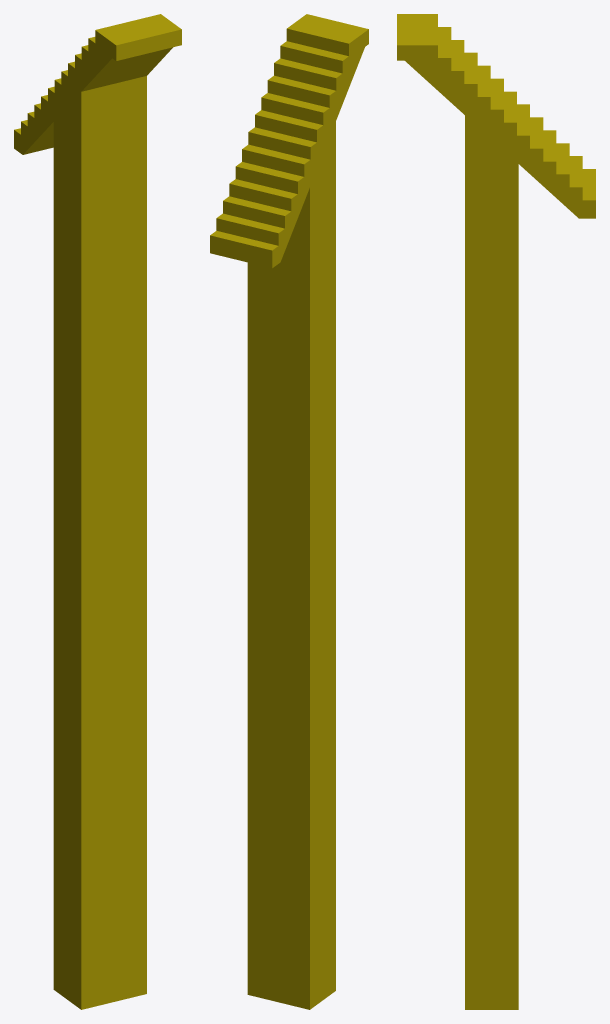
File: StairsLift.fbx
3 renders of one model, left to right at view 1: azimuth 30°, elevation 25°; view 2: azimuth 150°, elevation 25°; view 3: azimuth 270°, elevation 25°, orthographic. The views are drawn at different scales.
Parts seen in each view (by area): view 1: StairsLift; view 2: StairsLift; view 3: StairsLift.
Boxes of the visible parts, x1,y1,x2,y2 form: StairsLift: (14, 14, 181, 1009); StairsLift: (210, 14, 368, 1009); StairsLift: (397, 14, 595, 1009).
Size of the model in its own units: 200 by 2882 by 538.
